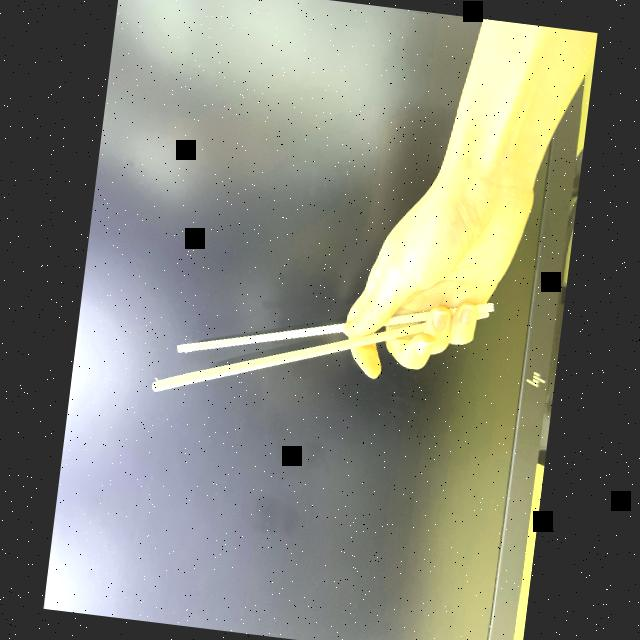stick: (150, 154, 536, 434)
